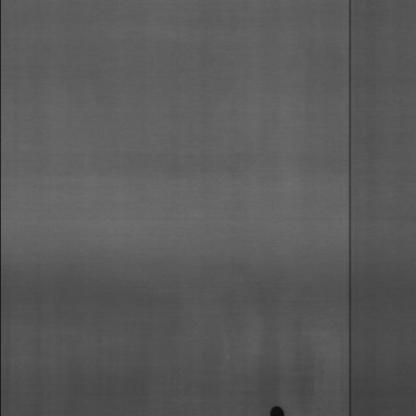punching_hole: (268, 402, 290, 416)
welding_line: (330, 0, 364, 416)
